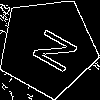N: (23, 22, 79, 75)
